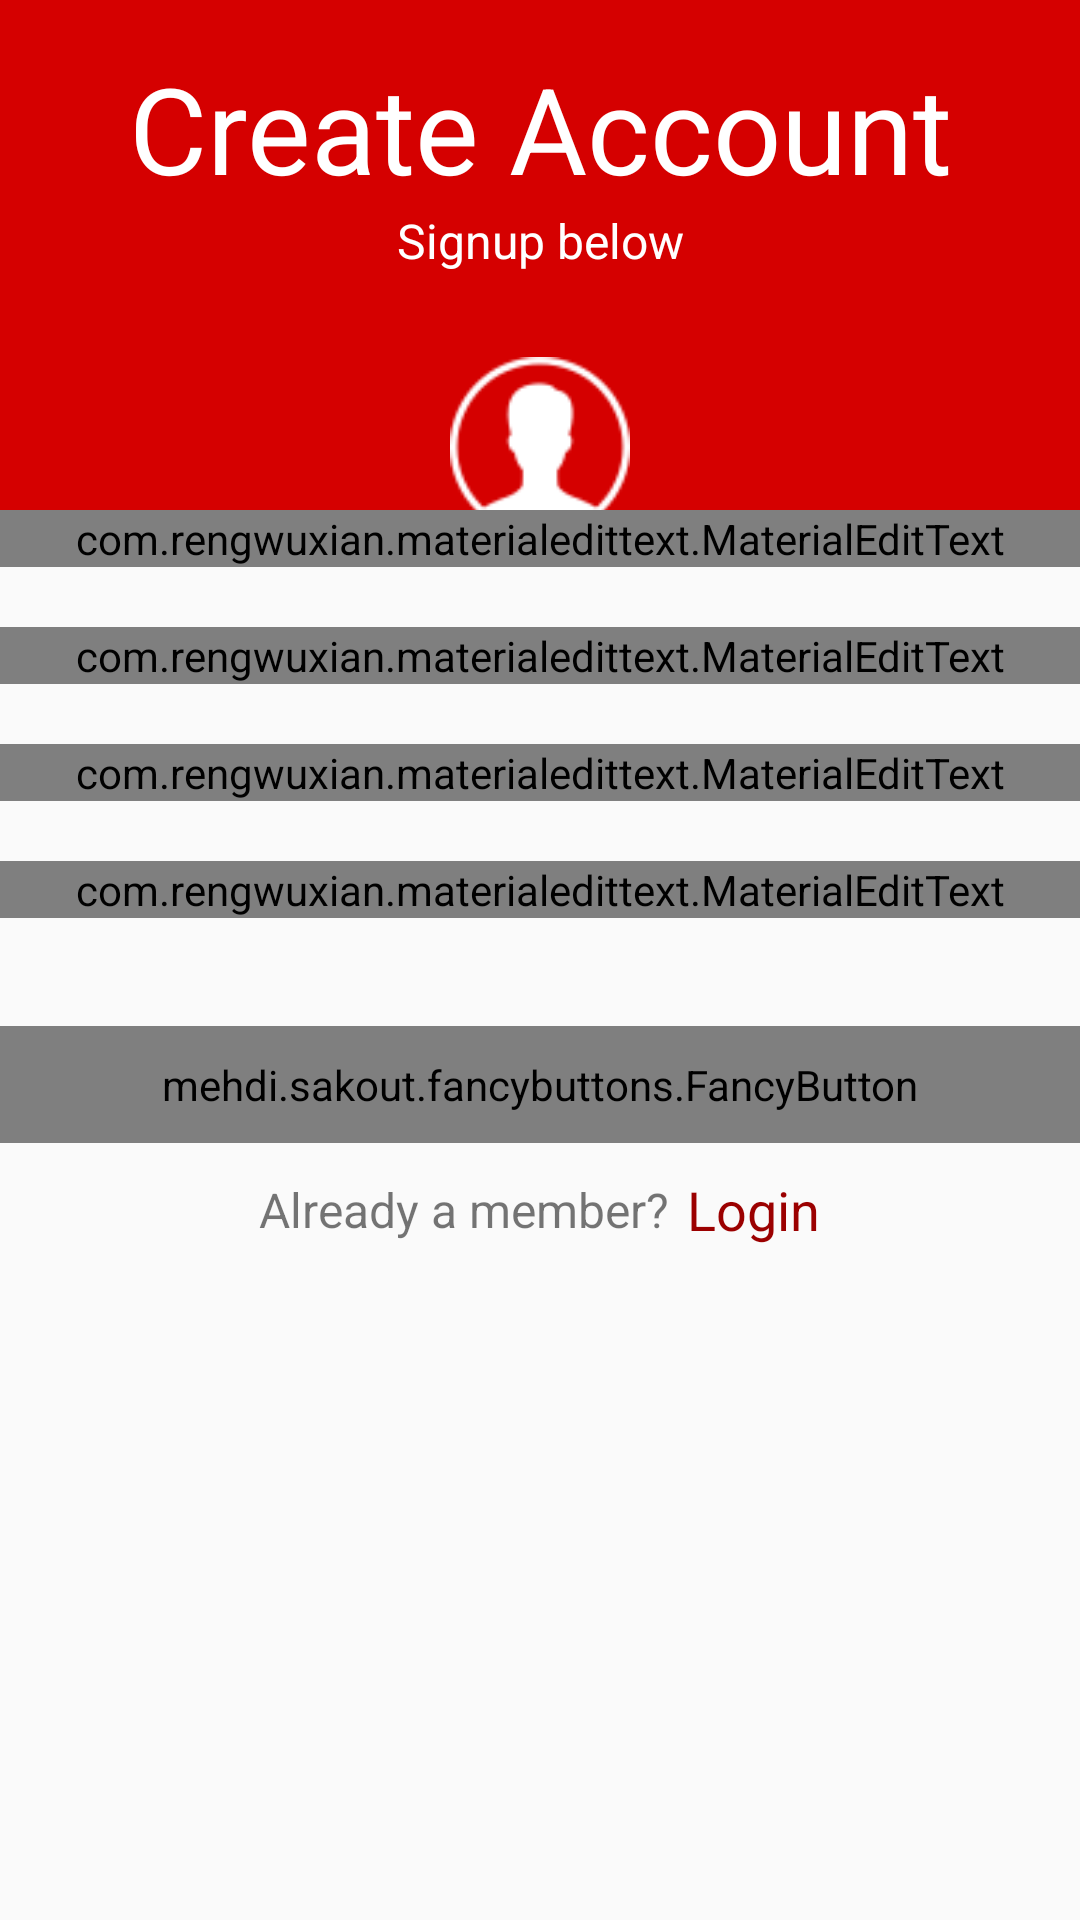

Named icons in this screenshot (1080w x 1920h) and their bounding boxes, box(x1, y1, x2, y2):
male circle: box(450, 357, 630, 537)
